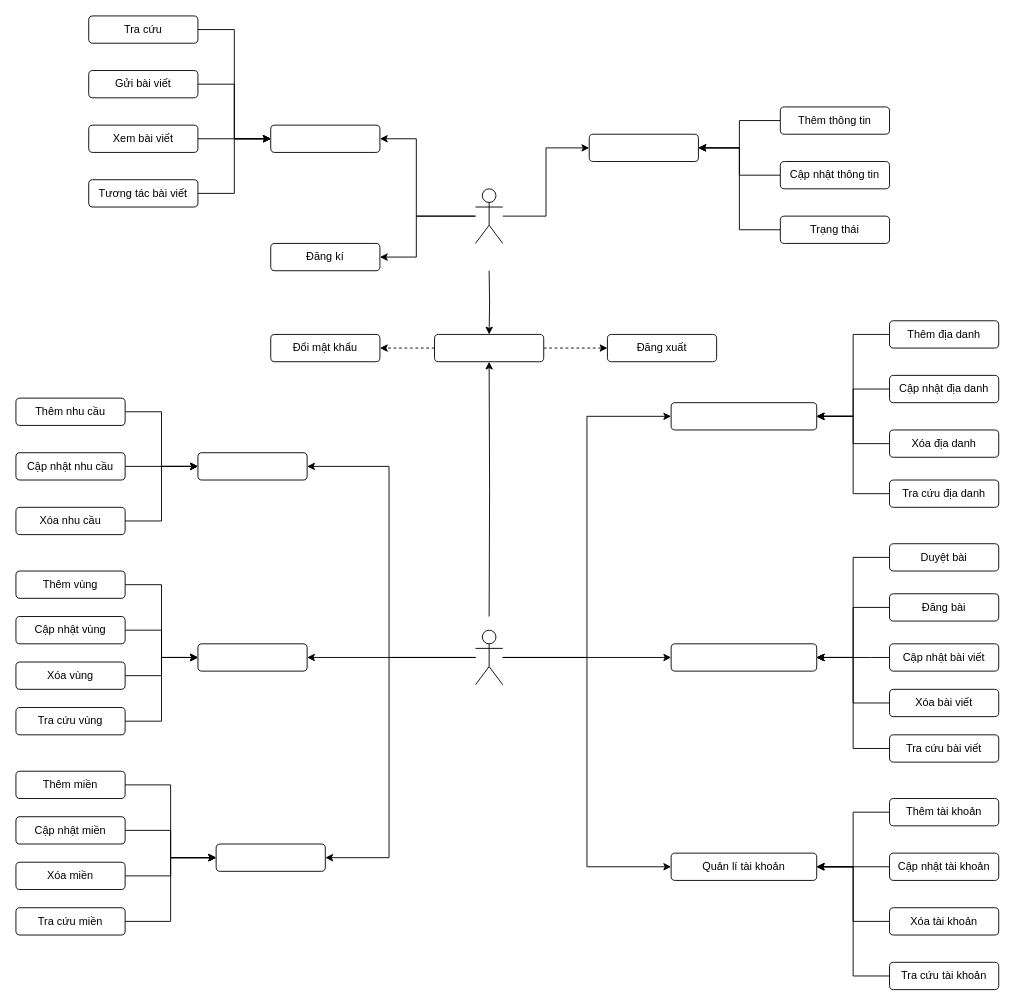
Image size: 1015x1006. Some labels were removed from this diagram. The shapes that lost their labels are listed below. From the top down, each one's box as (x1, y1, x2, y2) in pixels, then its label:
(270, 124, 380, 152): Bài viết
(588, 133, 698, 162): Thông tin cá nhân
(475, 188, 503, 243): Người dùng
(434, 334, 544, 362): Đăng nhập
(670, 402, 817, 430): Quản lí thông tin địa danh
(197, 452, 307, 480): Quản lí nhu cầu
(197, 643, 307, 671): Quản lí vùng
(475, 629, 503, 685): Người quản lí
(670, 643, 817, 671): Quản lí bài viết
(215, 843, 325, 871): Quản lí miền
